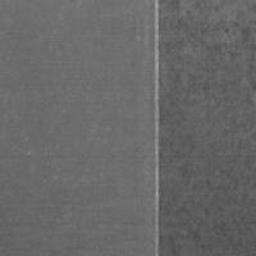Welding line: (151, 0, 161, 256)
